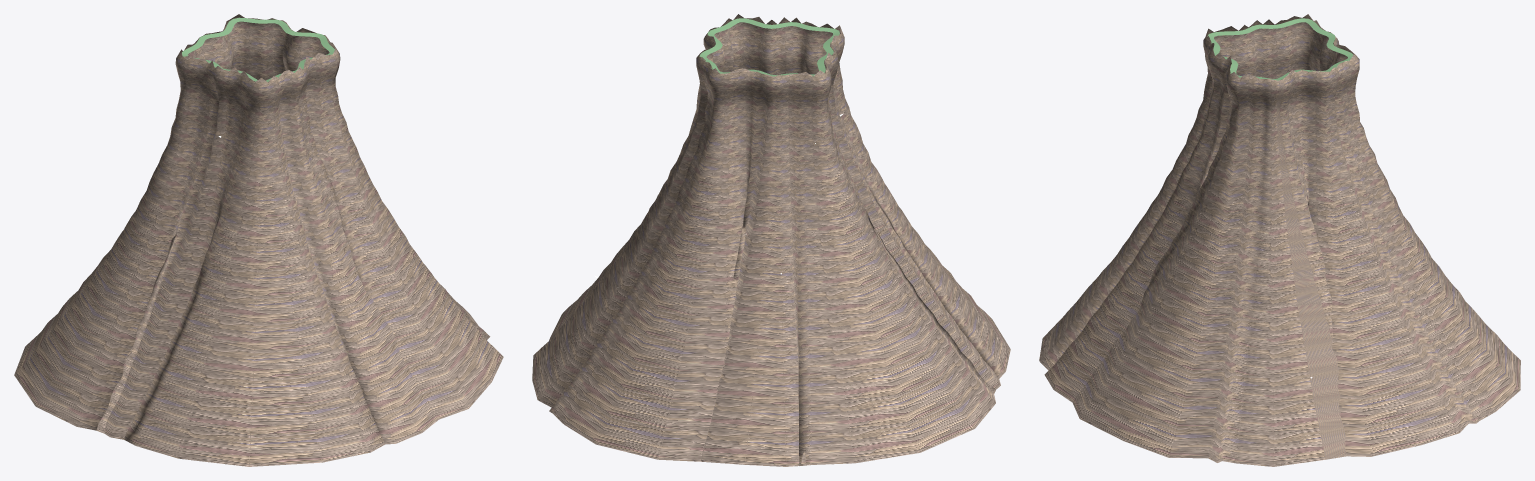
Rendered from CliffWall_stack_10.glb.
The picture shows the model from 3 angles, left to right: view 1: azimuth 30°, elevation 25°; view 2: azimuth 150°, elevation 25°; view 3: azimuth 270°, elevation 25°; orthographic projection.
Parts seen in each view (by area): view 1: CliffWall_stack_10-rock0, CliffWall_stack_10-lip0; view 2: CliffWall_stack_10-rock0, CliffWall_stack_10-lip0; view 3: CliffWall_stack_10-rock0, CliffWall_stack_10-lip0.
Part boxes in pixels (<box>): CliffWall_stack_10-rock0: <box>14,14,503,466</box>; CliffWall_stack_10-lip0: <box>182,17,334,81</box>; CliffWall_stack_10-rock0: <box>532,14,1010,466</box>; CliffWall_stack_10-lip0: <box>699,18,839,76</box>; CliffWall_stack_10-rock0: <box>1039,14,1520,466</box>; CliffWall_stack_10-lip0: <box>1207,18,1353,80</box>.
Bounding box in the file's own units: 628 × 456 × 621.
Materials: 4 (1 with a texture image).
